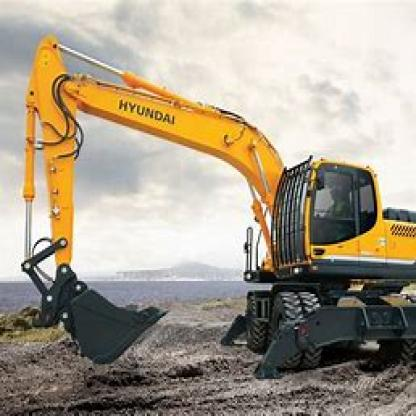dump_truck: (26, 40, 399, 398)
